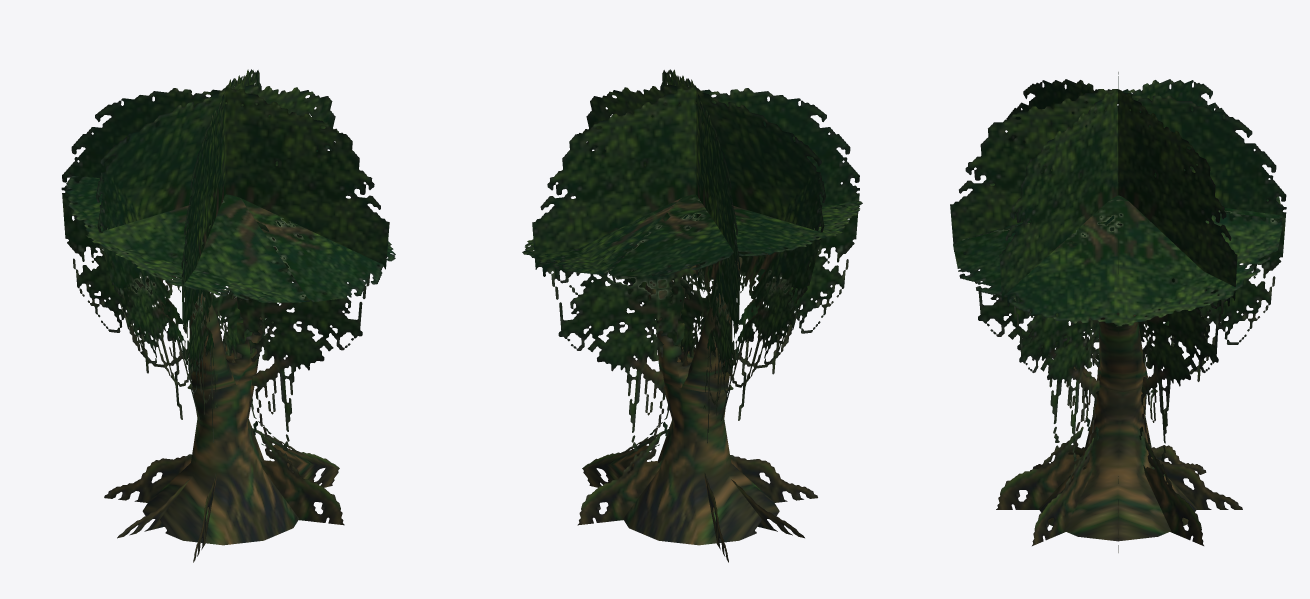
File: jungle_tree5.obj
3 renders of one model, left to right at view 1: azimuth 30°, elevation 25°; view 2: azimuth 150°, elevation 25°; view 3: azimuth 270°, elevation 25°, orthographic.
Visible parts, largest first — view 1: jungle_tree5; view 2: jungle_tree5; view 3: jungle_tree5.
Part boxes in pixels (box(x1,y1,x2,y2)): jungle_tree5: box(61, 69, 395, 562); jungle_tree5: box(522, 69, 862, 562); jungle_tree5: box(950, 72, 1286, 552).
Size of the model in its own units: 17.44 by 22.81 by 17.44.
1 material, 1 textured.
